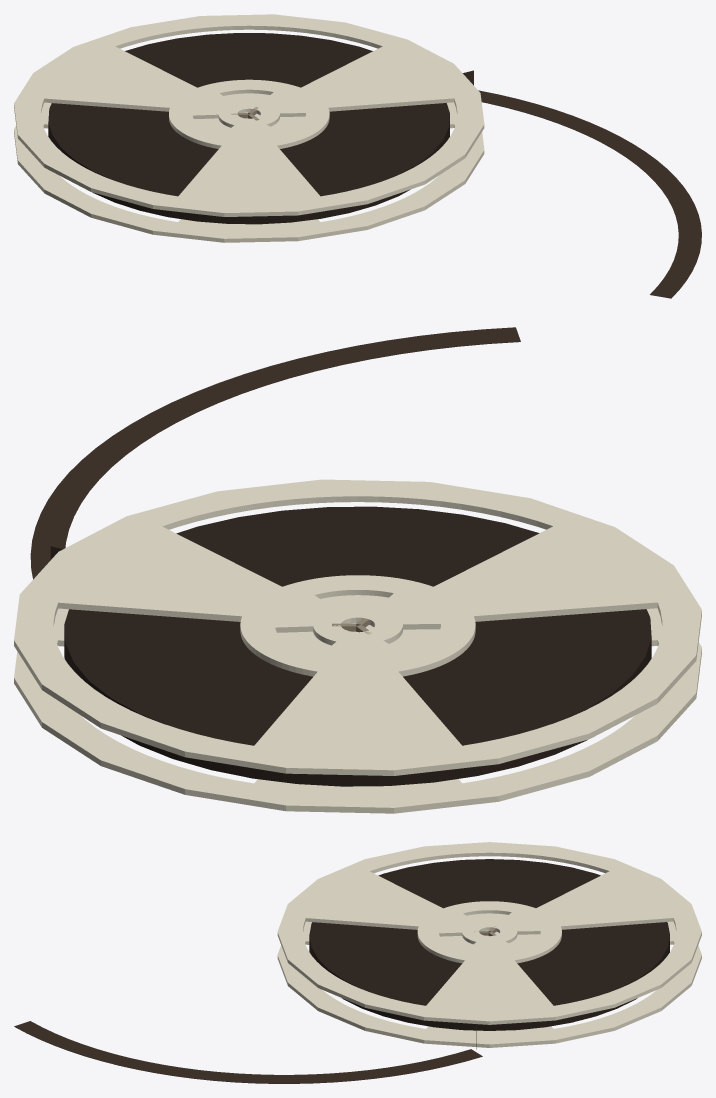
File: bobina.glb
3 renders of one model, top to bottom at view 1: azimuth 30°, elevation 25°; view 2: azimuth 150°, elevation 25°; view 3: azimuth 270°, elevation 25°, orthographic. The views are drawn at different scales.
Visible parts, largest first — view 1: Бобина, Магнитная лента, Конец ленты; view 2: Бобина, Магнитная лента, Конец ленты; view 3: Бобина, Магнитная лента, Конец ленты.
Part boxes in pixels (x1,y1,x2,y2): Бобина: (14,14,484,242); Магнитная лента: (48,33,449,224); Конец ленты: (463,70,701,298); Бобина: (14,479,701,813); Магнитная лента: (64,506,651,786); Конец ленты: (30,327,520,579); Бобина: (277,842,701,1047); Магнитная лента: (309,859,669,1030); Конец ленты: (14,1021,482,1083).
Size of the model in its own units: 0.1564 by 0.009 by 0.2107.
